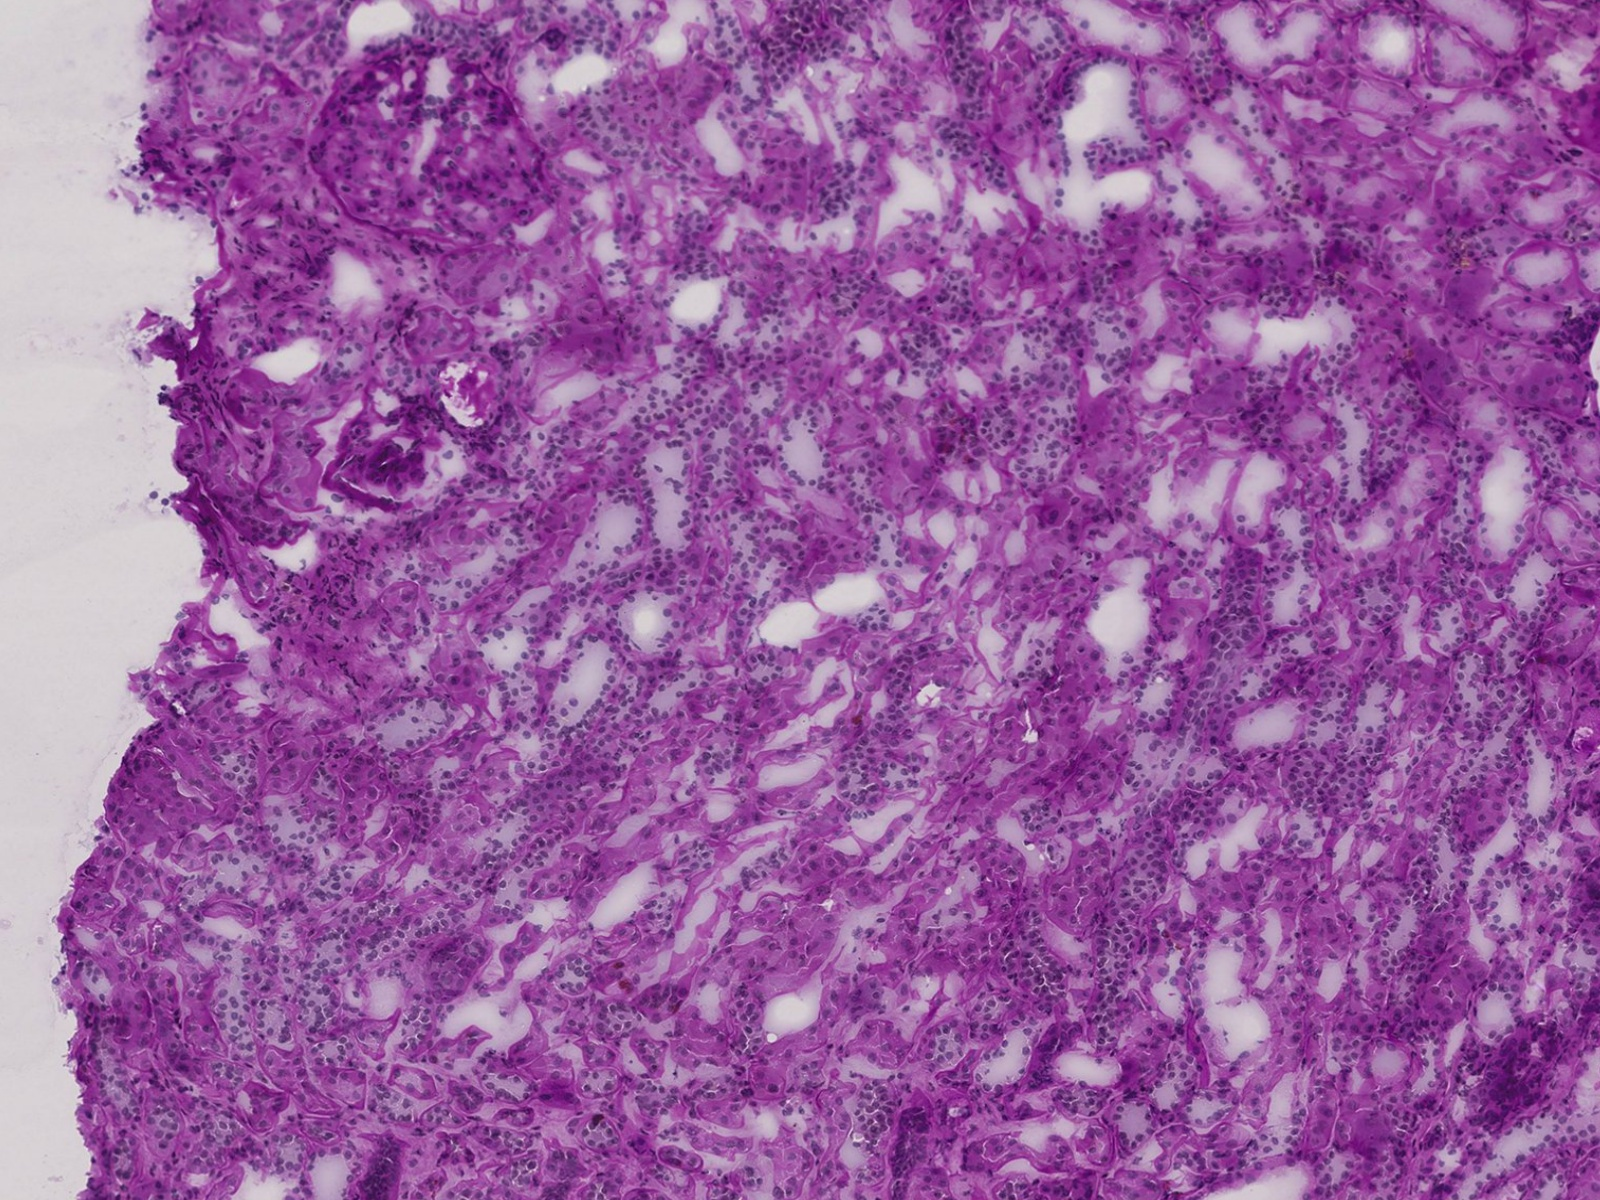Glomeruli: (301, 42, 568, 261)
